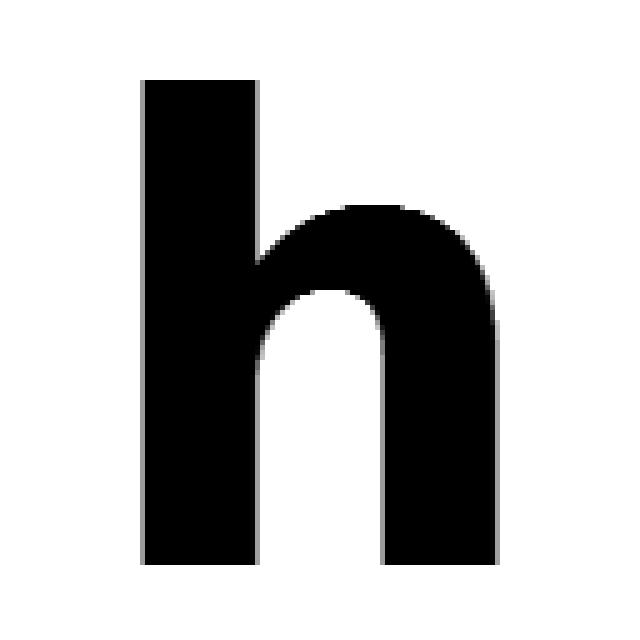H: (140, 80, 500, 570)
